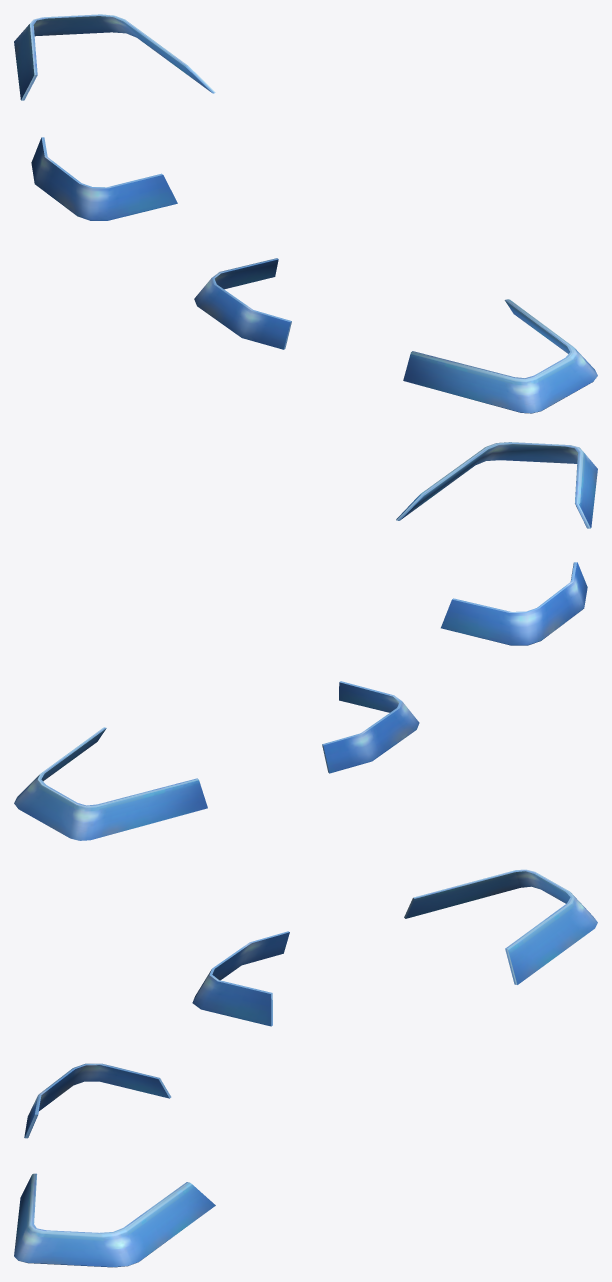
The model's file is pref_sm_beach_winter_pointmol_glass04_lv1.fbx.
3 renders of one model, top to bottom at view 1: azimuth 30°, elevation 25°; view 2: azimuth 150°, elevation 25°; view 3: azimuth 330°, elevation 25°, orthographic.
Parts seen in each view (by area): view 1: pref_sm_beach_winter_pointmol_glass04_lv1; view 2: pref_sm_beach_winter_pointmol_glass04_lv1; view 3: pref_sm_beach_winter_pointmol_glass04_lv1.
Part boxes in pixels (x1=…): pref_sm_beach_winter_pointmol_glass04_lv1: x1=14, y1=14, x2=597, y2=413; pref_sm_beach_winter_pointmol_glass04_lv1: x1=14, y1=442, x2=597, y2=840; pref_sm_beach_winter_pointmol_glass04_lv1: x1=14, y1=869, x2=597, y2=1267.
Bounding box in the file's own units: 9.91 × 1.04 × 37.79.
